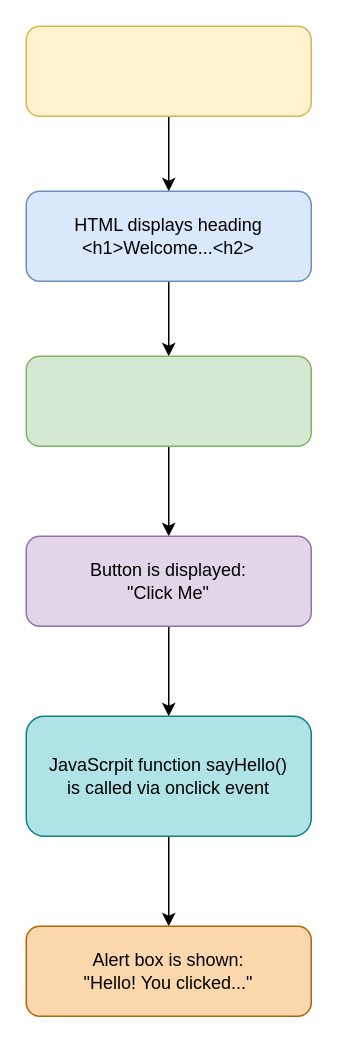
Some shapes in this 338 by 1043 pixel diagram are drawn without their labels. Here are the shapes that lost their labels. From the top down, the centre of each, then its label:
At point (168, 70): "Webpage Loads".
At point (168, 400): "CSS applies styling to page Center text Style button, etc.".
